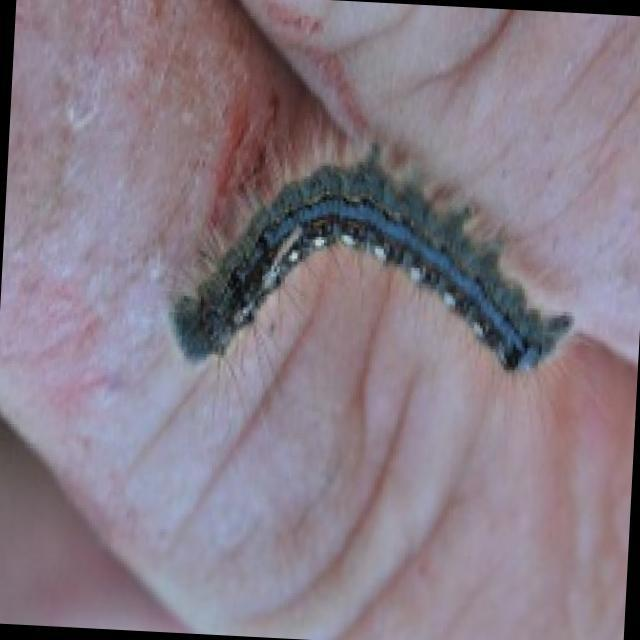Plaga: (163, 139, 607, 410)
